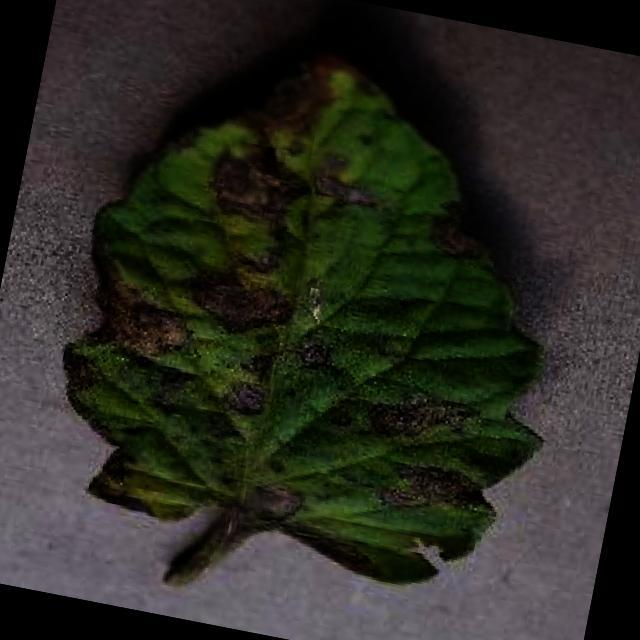Tomato Early blight leaf: (34, 9, 614, 612)
